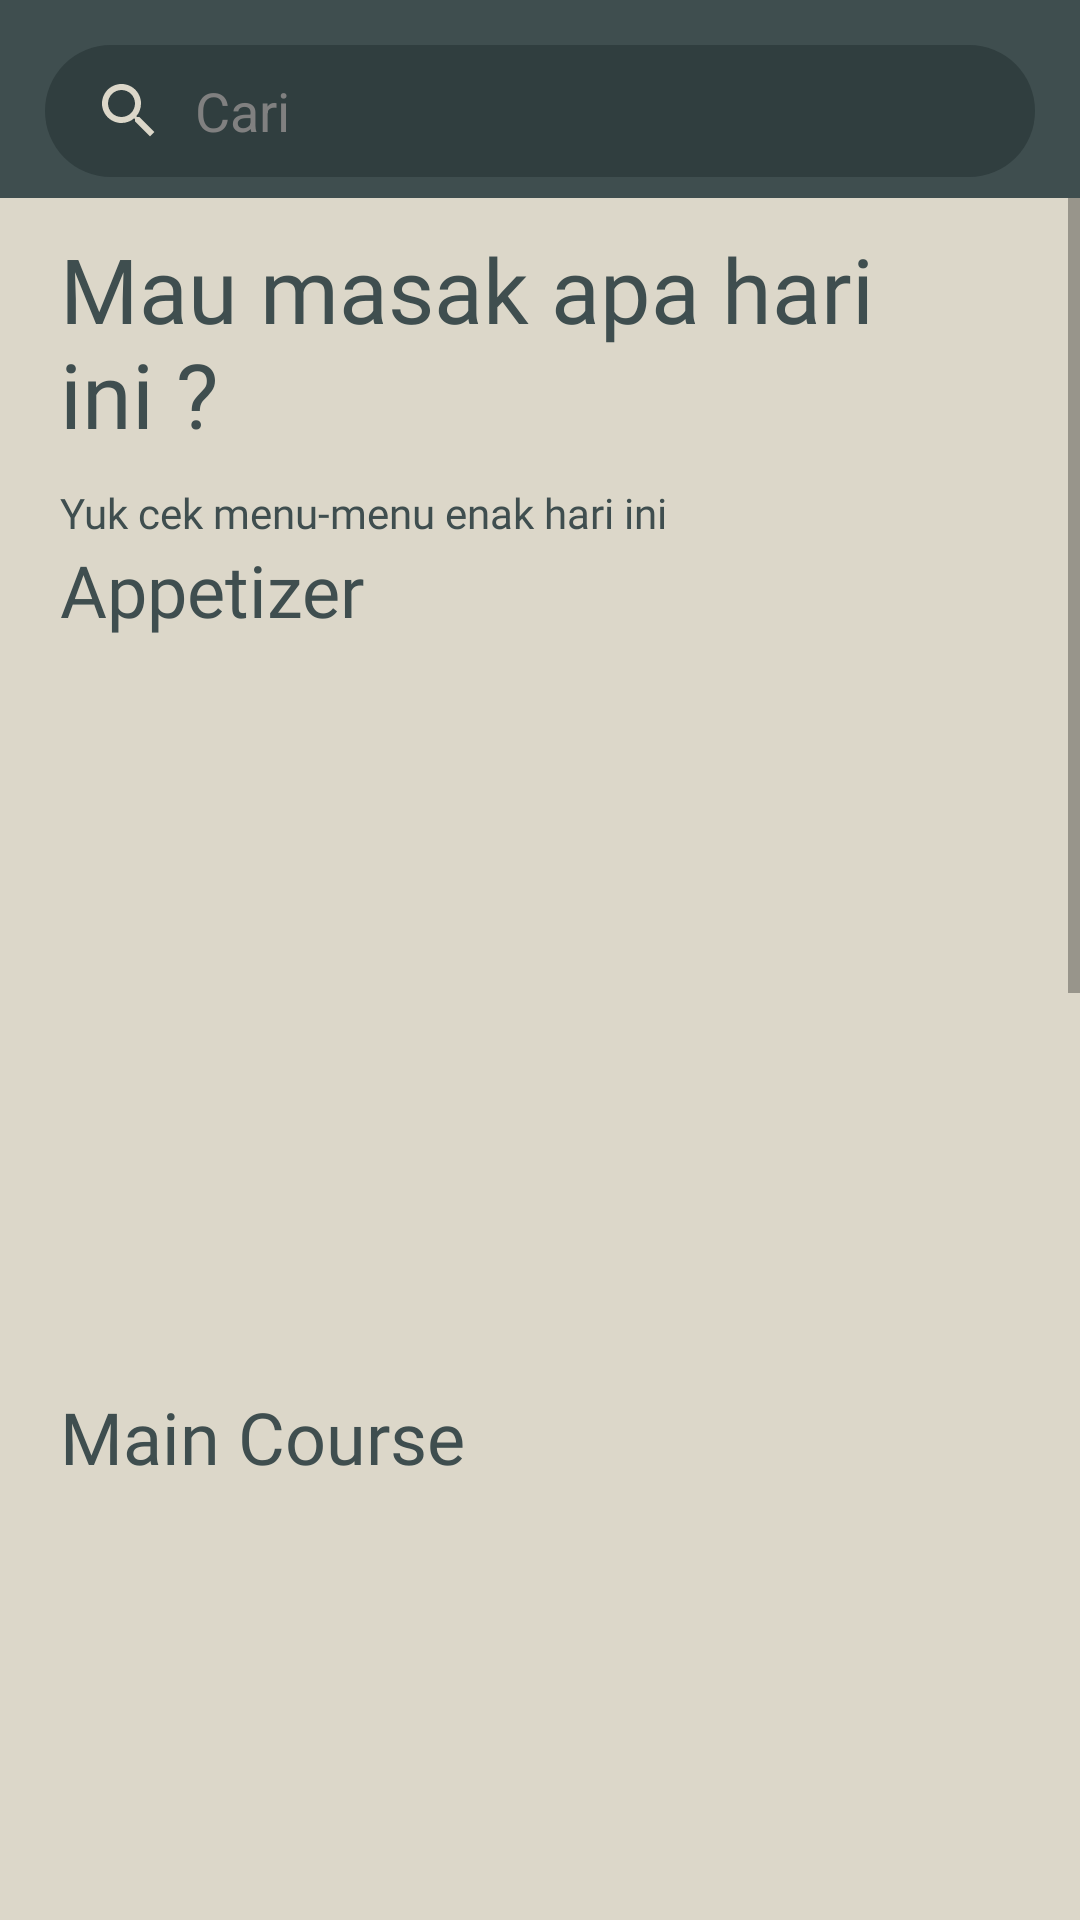

Icon bounding boxes for this 1080x1920 phone screenshot, format (x1=x1, y1=y1, x2=x2, y2=y2):
search: (x1=102, y1=84, x2=154, y2=136)
